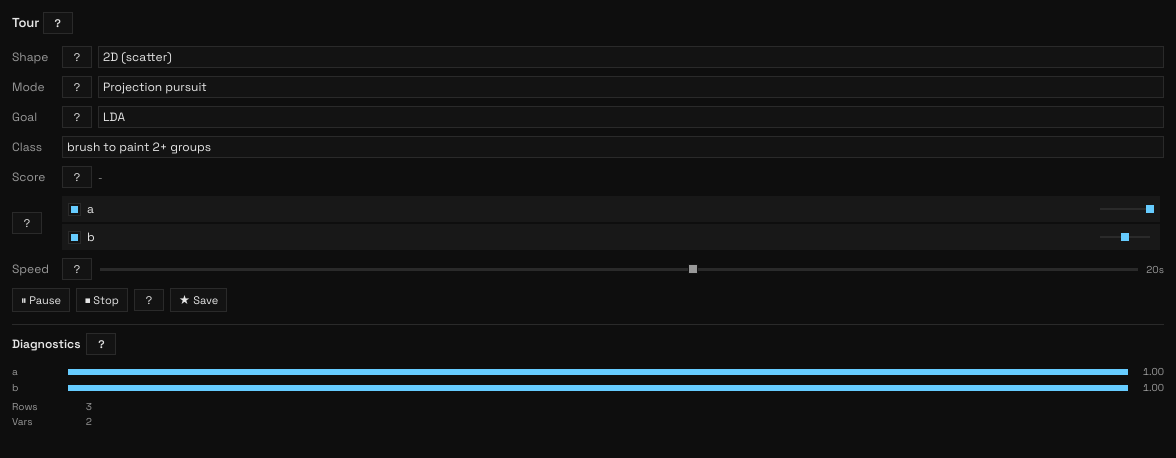
TourPanel › shows phase controls for active tour variables and freezes one on click
The image size is (1176, 458).
What coordinates should you click on to do the following:
click the button named "freeze a"
I would click on:
 (1125, 209)
Its box is [1096,200,1154,218].
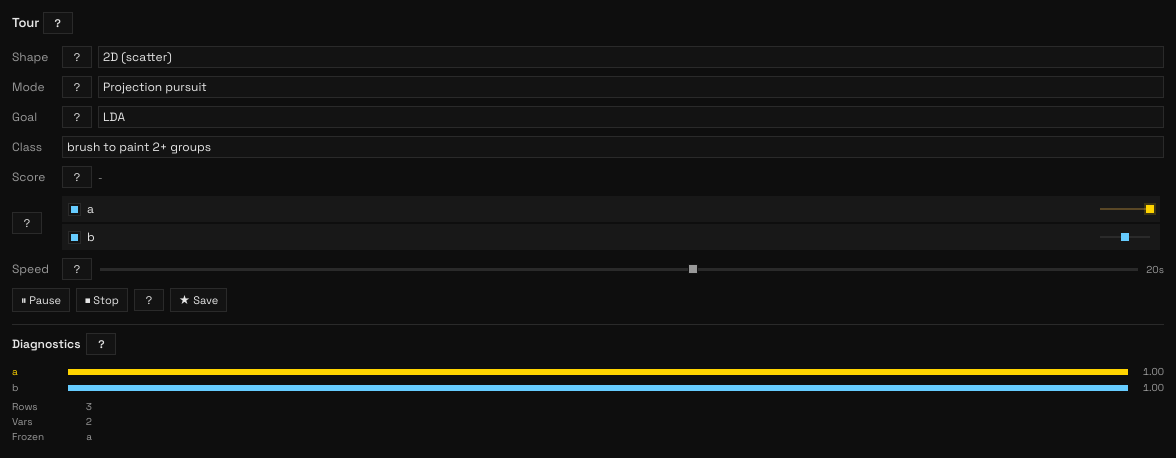
Result: the button named "release a" is shown at [1096,200,1154,218]
